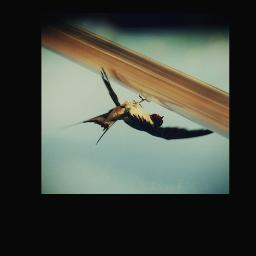Swallow: (58, 67, 216, 147)
